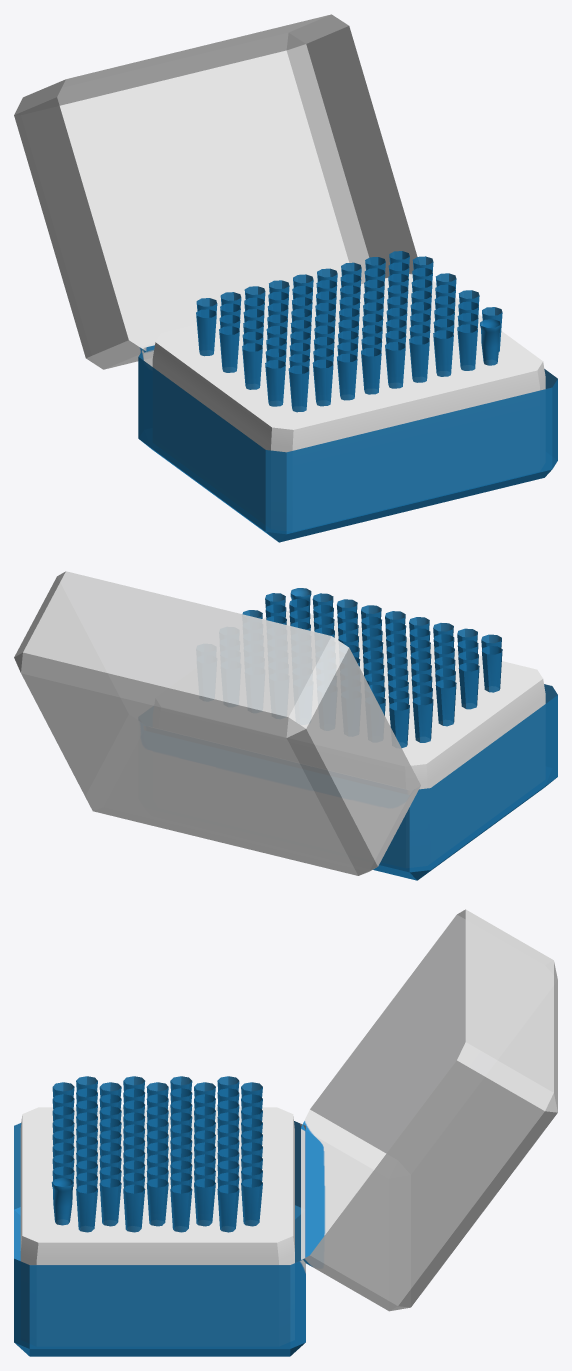
The model's file is 枪头盒.glb.
3 views of the same model, one above another, from view 1: azimuth 30°, elevation 25°; view 2: azimuth 150°, elevation 25°; view 3: azimuth 270°, elevation 25° (orthographic). The views are drawn at different scales.
Parts seen in each view (by area): view 1: 枪头盒, 枪头盒.001, 枪头盒_枪头; view 2: 枪头盒, 枪头盒.001; view 3: 枪头盒, 枪头盒.001, 枪头盒_枪头.
Part boxes in pixels (x1,y1,x2,y2): 枪头盒: (14, 14, 557, 542); 枪头盒.001: (196, 251, 502, 412); 枪头盒_枪头: (480, 319, 500, 365); 枪头盒: (14, 571, 557, 880); 枪头盒.001: (242, 593, 502, 747); 枪头盒: (14, 909, 557, 1356); 枪头盒.001: (52, 1076, 262, 1232); 枪头盒_枪头: (51, 1178, 73, 1225).
Size of the model in its own units: 0.13 by 0.1307 by 0.2048.
2 materials, 1 textured.
